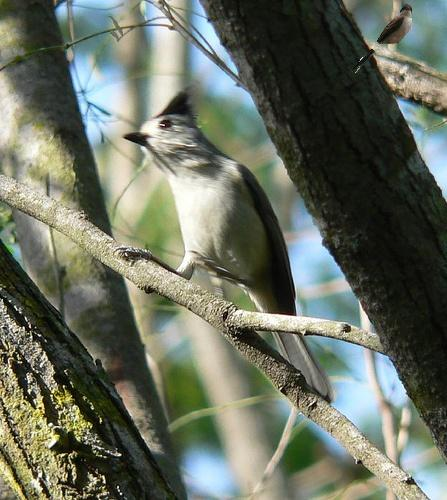tampered: (352, 5, 412, 73)
